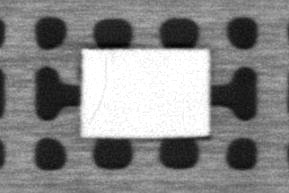DIE_CRACK: (88, 54, 108, 127)
